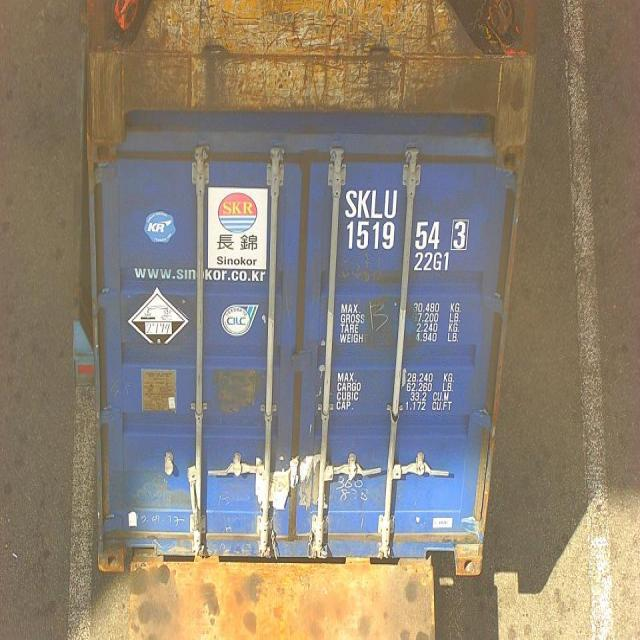ISO: (414, 250, 449, 270)
container_number: (342, 186, 472, 250)
